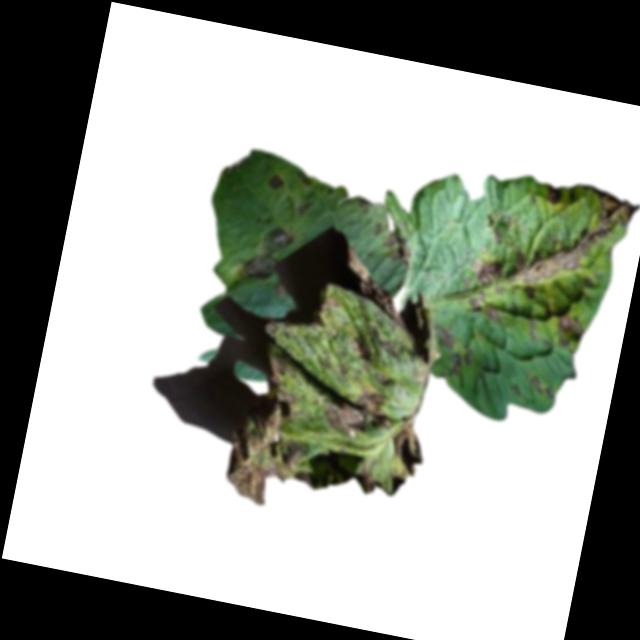Early_blight: (467, 167, 636, 313), (221, 349, 323, 511), (340, 249, 420, 331), (317, 379, 395, 442), (238, 222, 292, 284), (383, 422, 431, 479), (431, 324, 473, 375), (552, 312, 588, 352), (352, 453, 382, 498), (463, 292, 504, 323), (349, 333, 376, 363), (378, 336, 403, 361), (265, 171, 285, 191)
